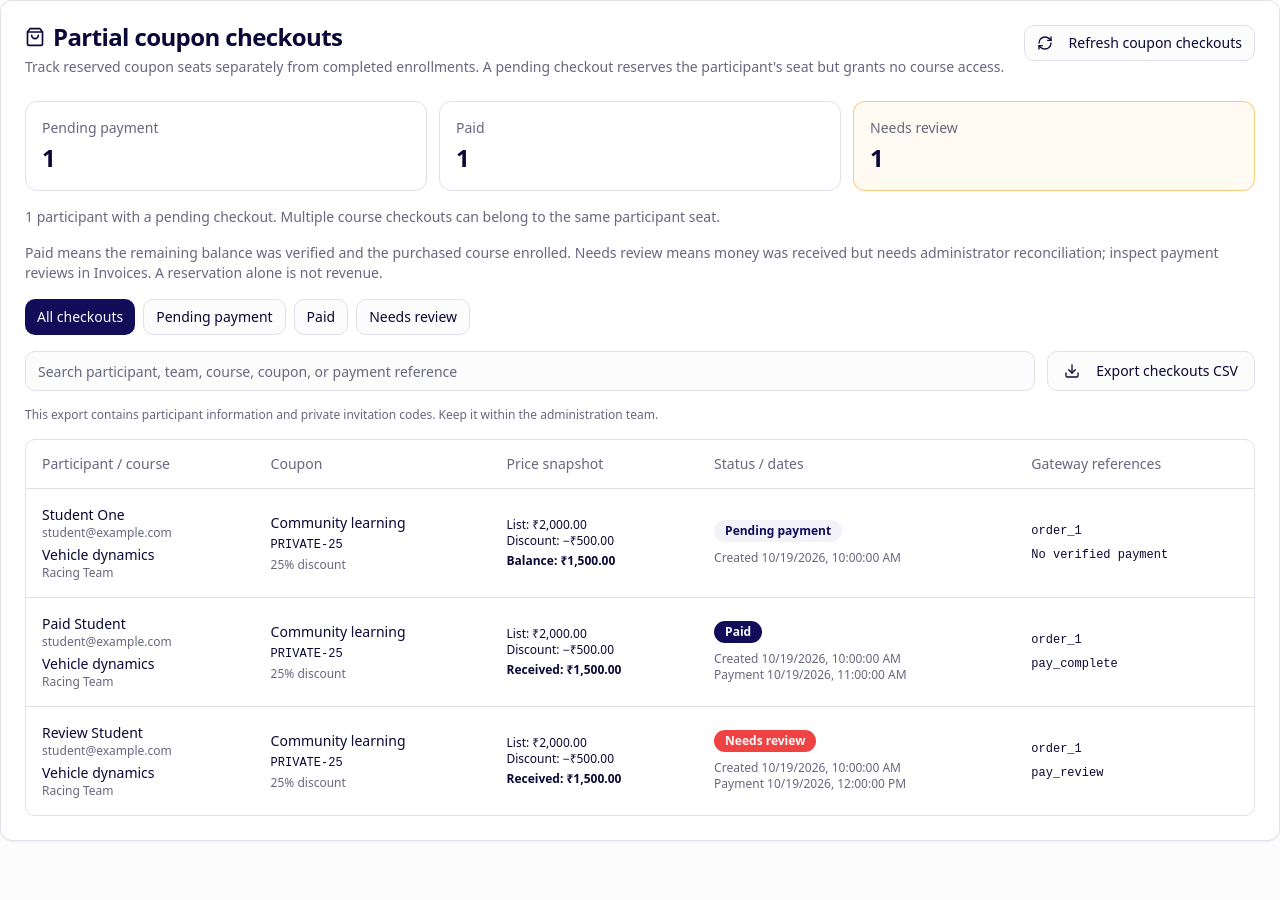
Scenario: admin partial coupon checkout tracking › filters completed and review payments separately without offering payment mutations
Expected: the text "Paid Student" is shown, [42,614,126,632]
Click the button "Needs review": x=413, y=317 [356,299,470,335]
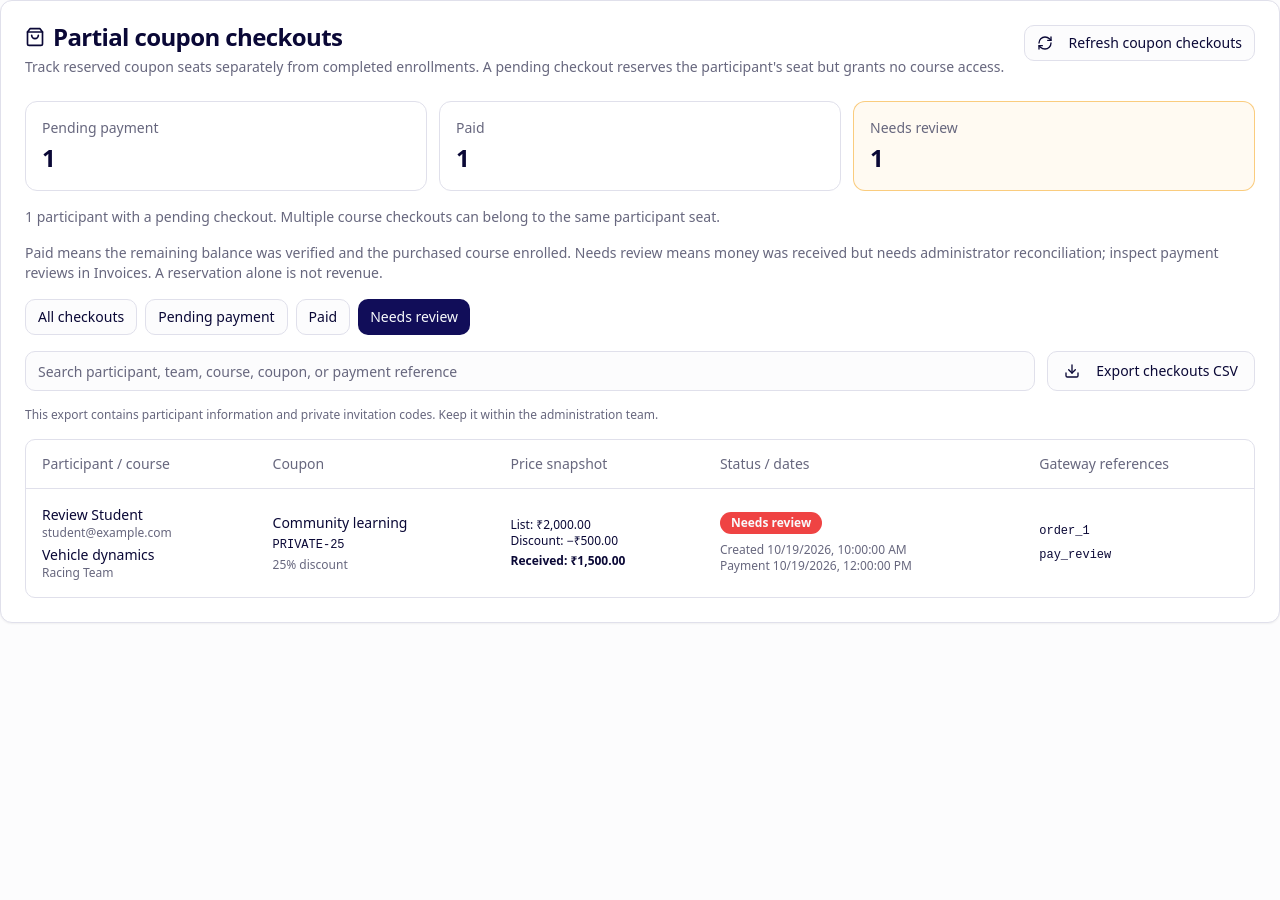
Expected: the text "Review Student" is shown, [42,504,143,524]
Now the text "Paid Student" is gone
Click the button "All checkouts": x=81, y=317 [25,299,137,335]
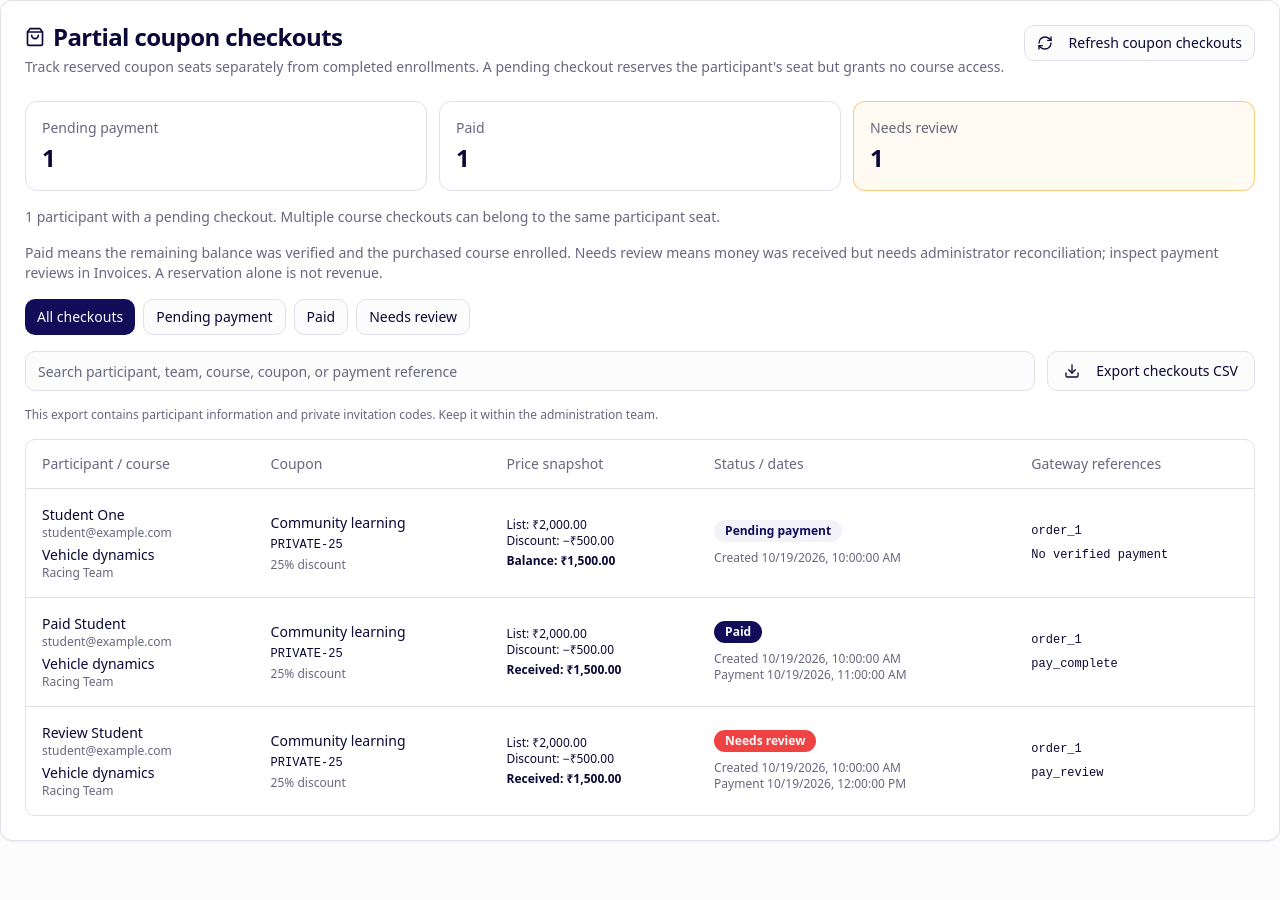
Replace the text in the field named "Search coupon checkouts" with "pay_complete": x=530, y=371 [25,351,1035,391]
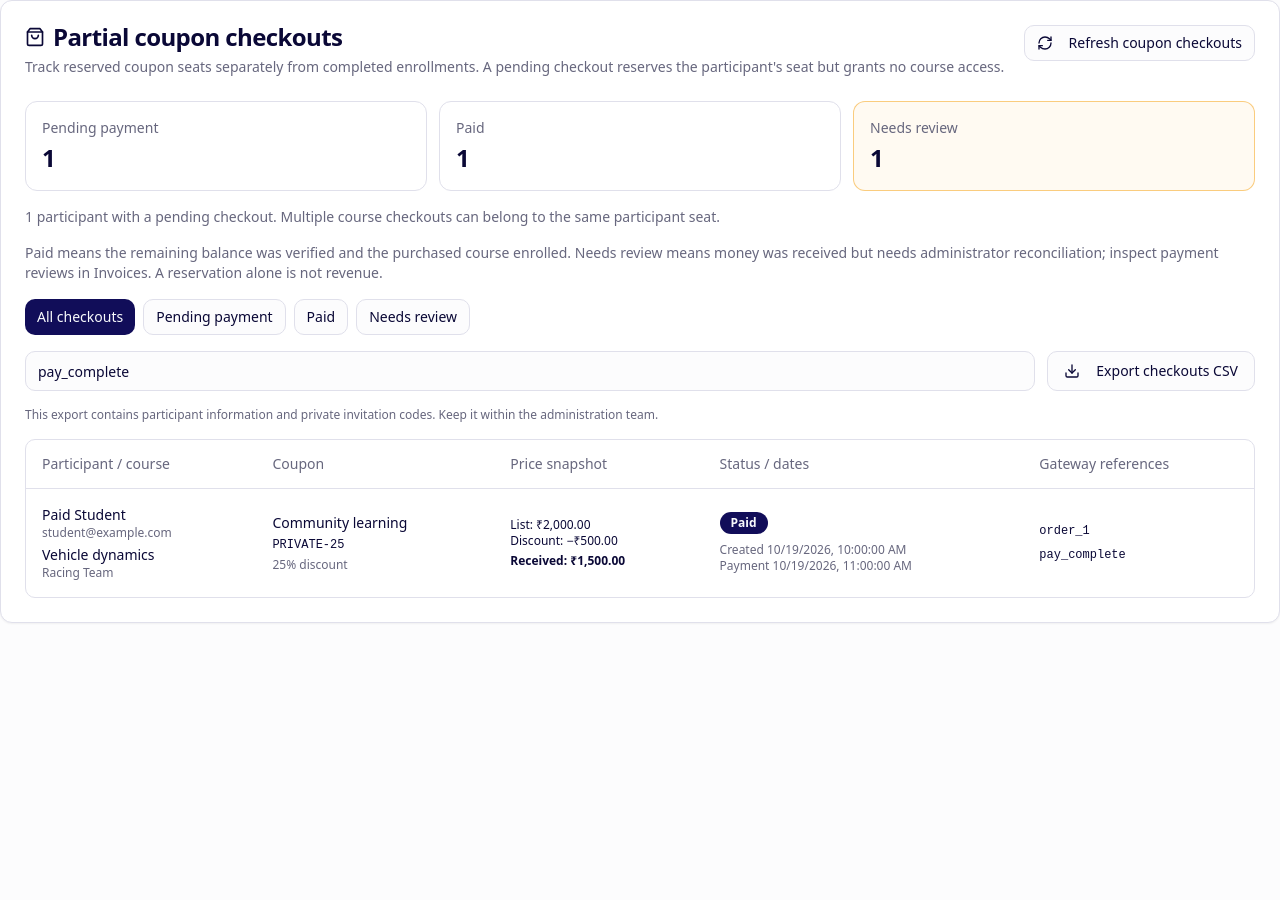
Now the text "Paid Student" is shown, box [42,504,126,524]
Now the text "Review Student" is gone
